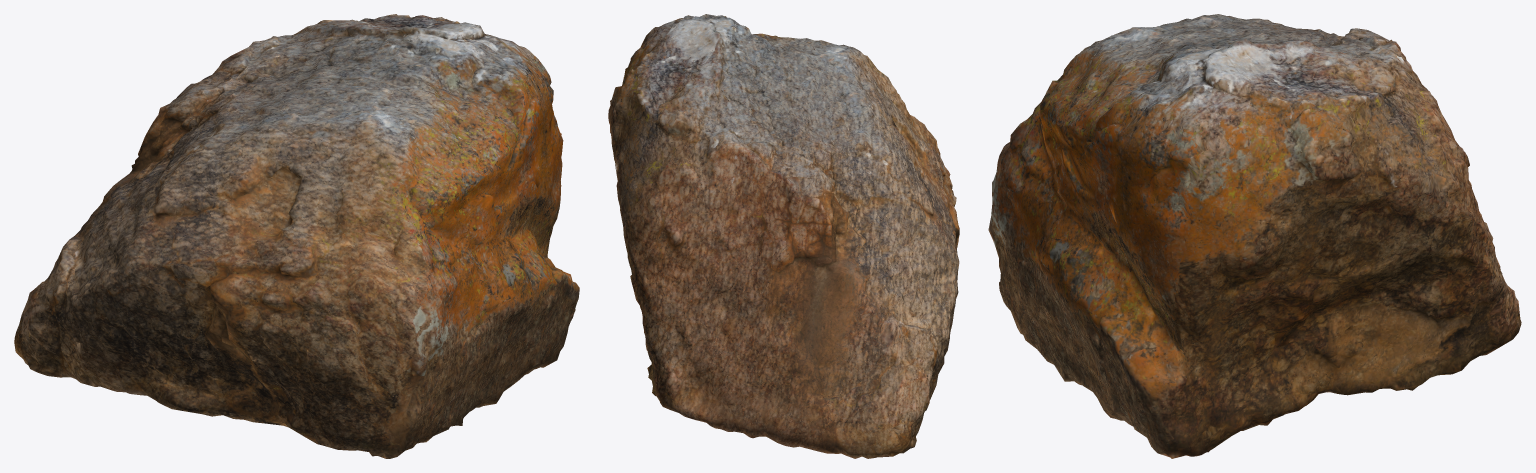
File: rock_3.obj
3 views of the same model, side by side, from view 1: azimuth 30°, elevation 25°; view 2: azimuth 150°, elevation 25°; view 3: azimuth 270°, elevation 25° (orthographic). The views are drawn at different scales.
Visible parts, largest first — view 1: namaqualand_boulder_04_LOD2; view 2: namaqualand_boulder_04_LOD2; view 3: namaqualand_boulder_04_LOD2.
Part boxes in pixels (<box>): namaqualand_boulder_04_LOD2: <box>14,14,579,458</box>; namaqualand_boulder_04_LOD2: <box>608,14,959,458</box>; namaqualand_boulder_04_LOD2: <box>988,14,1521,458</box>.
Bounding box in the file's own units: 0.6515 × 0.4905 × 0.6447.
